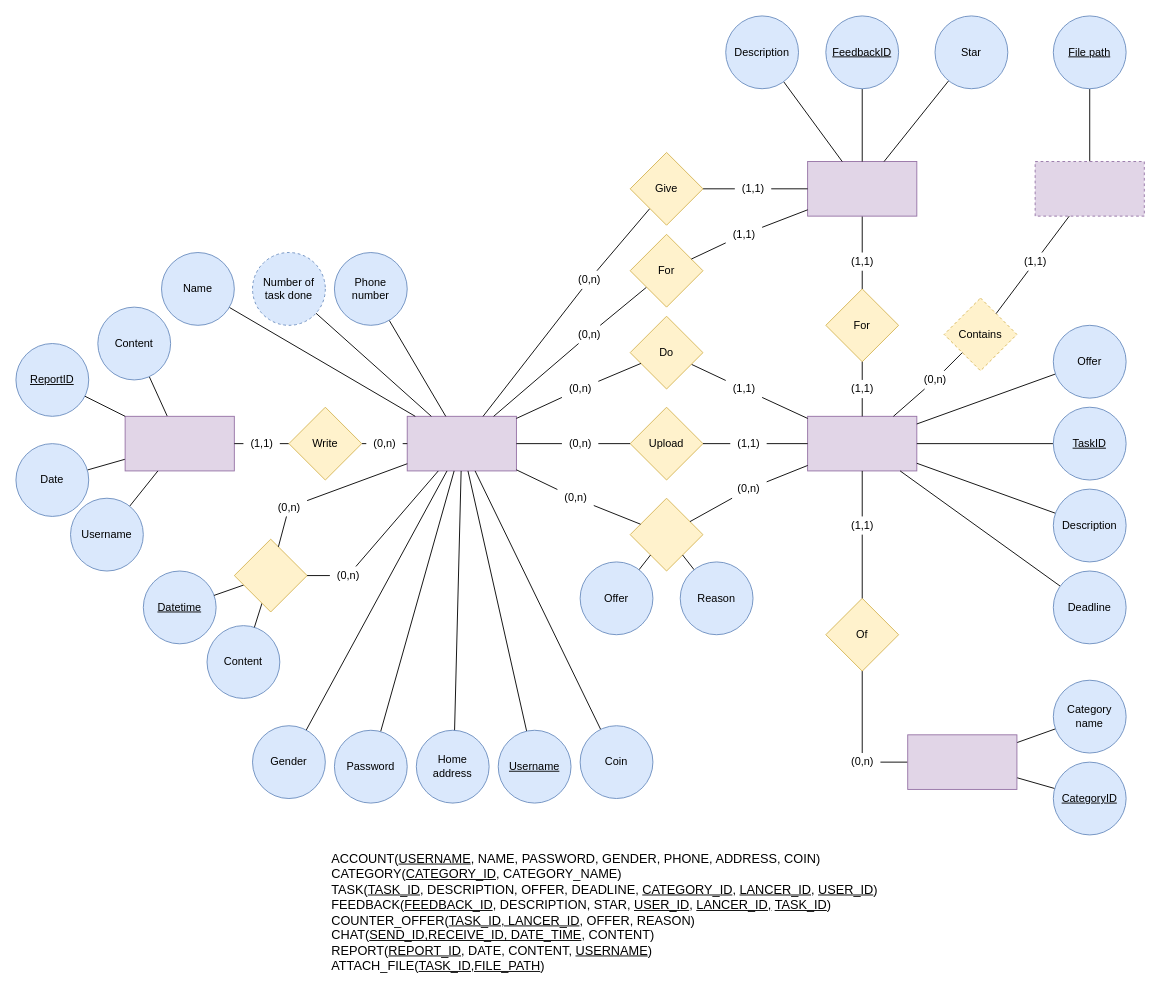
Image size: 1160x1002. Some labels were removed from this diagram. Each missing label, with the centre of its shape:
"Account" goes at (x=461, y=443).
"Attach file" goes at (x=1089, y=188).
"Category" goes at (x=962, y=761).
"Chat" goes at (x=270, y=575).
"Counter offer" goes at (x=666, y=534).
"Feed back" goes at (x=862, y=188).
"Report" goes at (x=179, y=443).
"Task" goes at (x=862, y=443).
